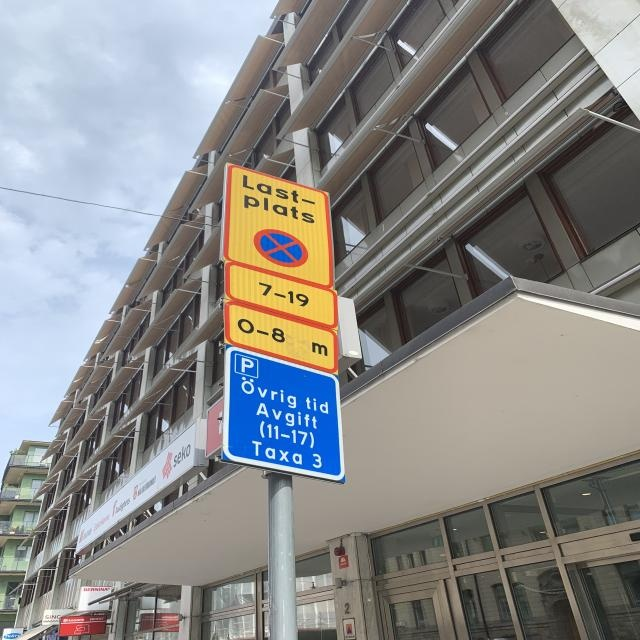lastplats: (219, 160, 340, 289)
